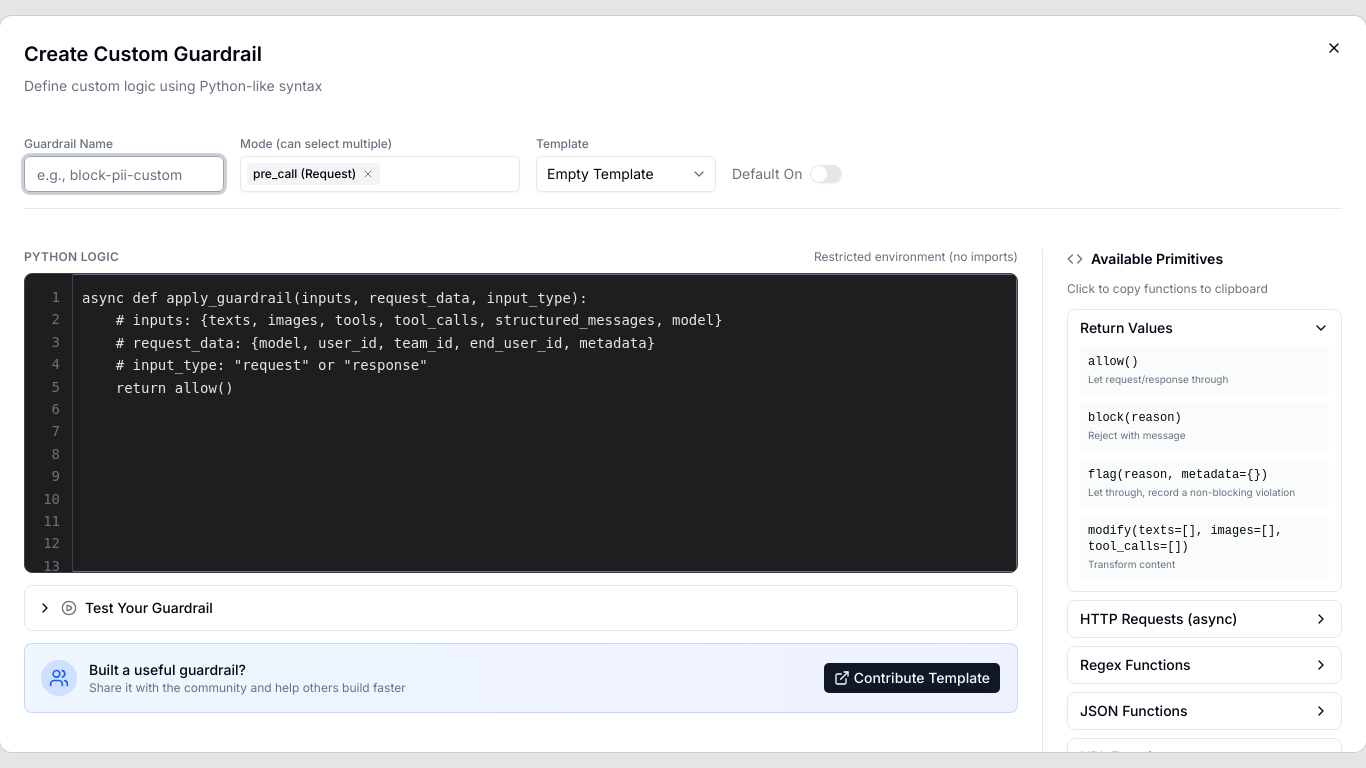
it: CustomCodeModal › should expand the test section and run a test against the backend
This screenshot has width=1366, height=768.
Click the button "Test Your Guardrail": click(149, 608) [25,586,1017,630]
(page scrolled)
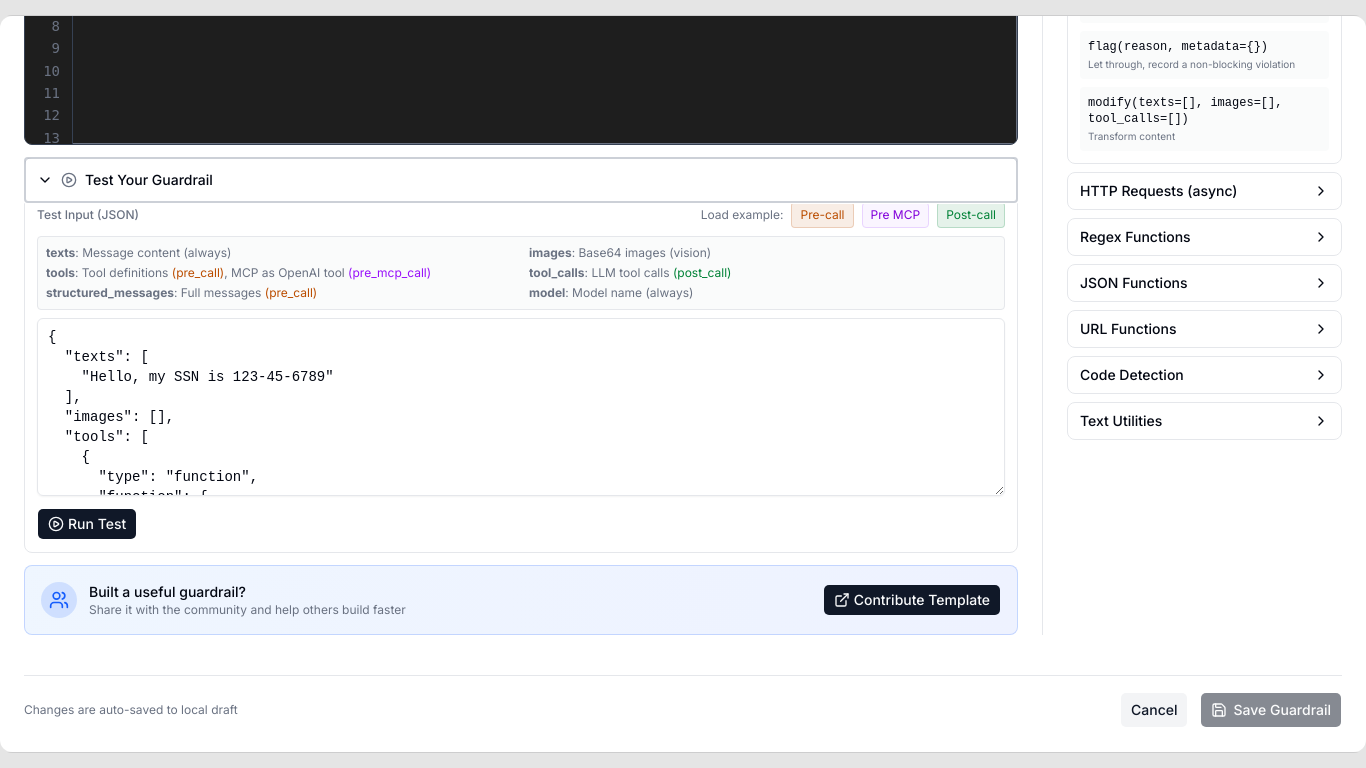
Click the button "Run Test": click(87, 524) [37,508,137,540]
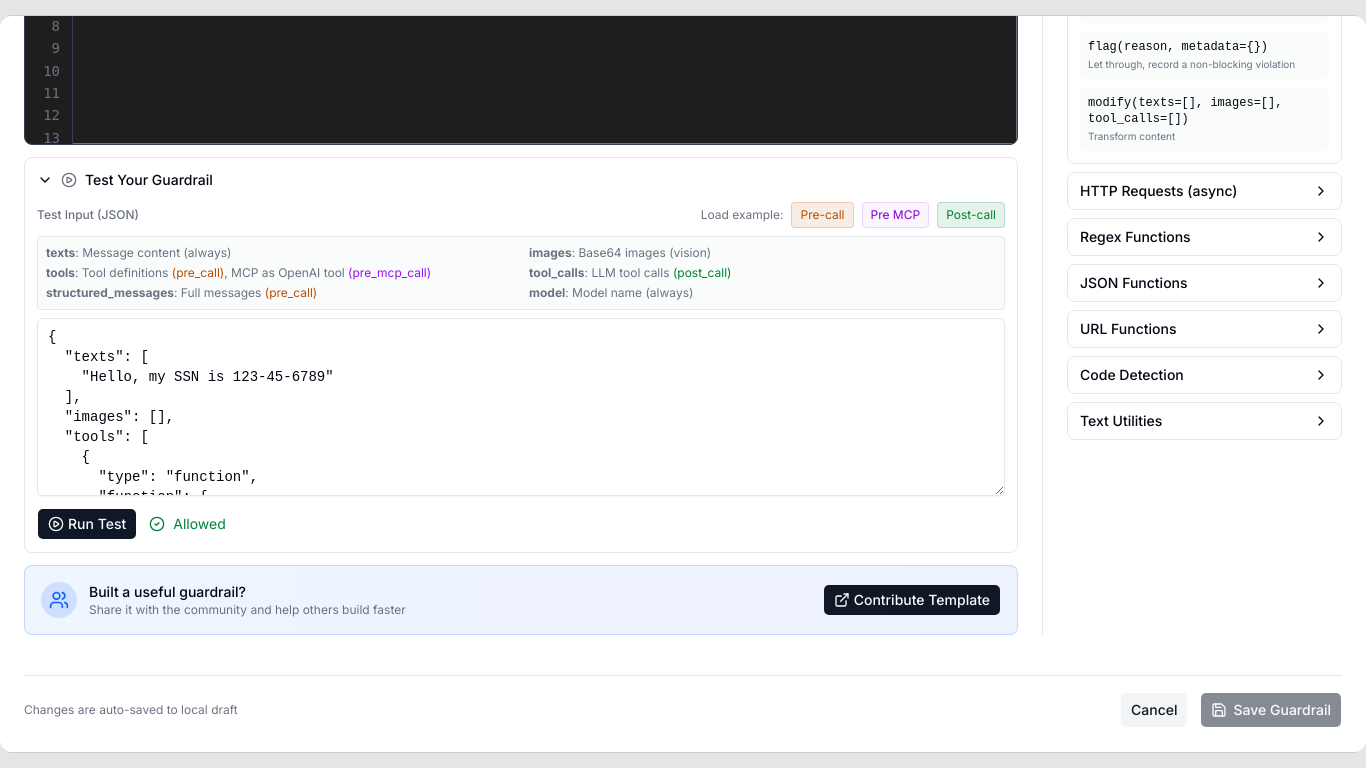
Check: the text "Allowed" is shown, box [149,514,226,534]
